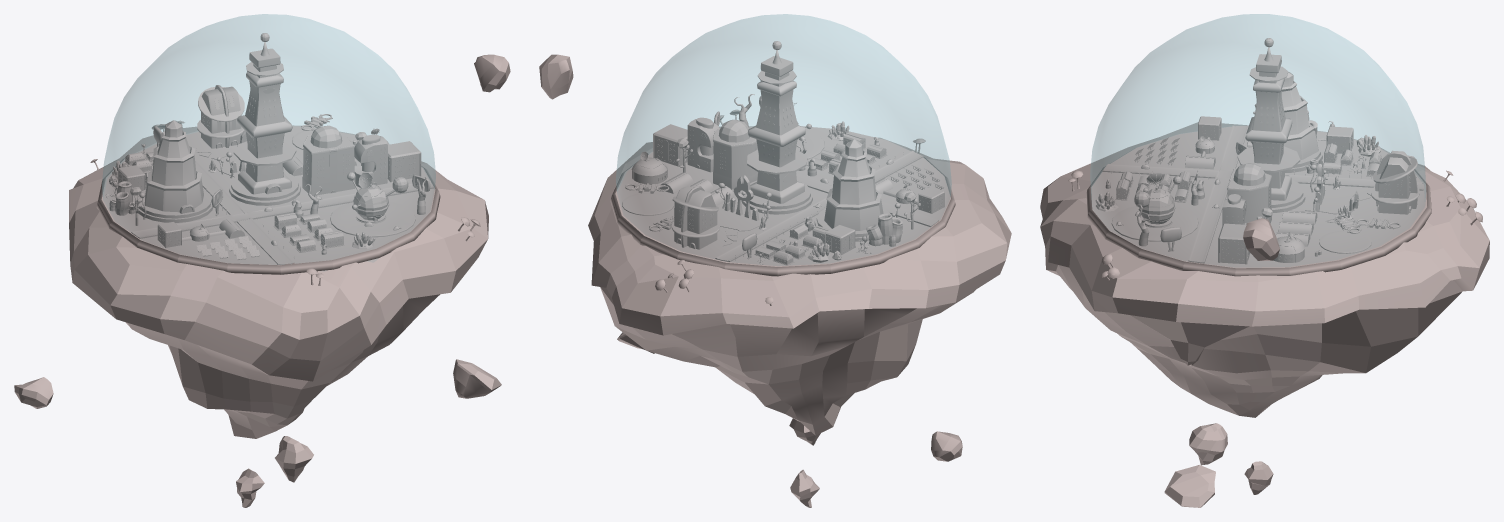
The picture shows the model from 3 angles, left to right: view 1: azimuth 30°, elevation 25°; view 2: azimuth 150°, elevation 25°; view 3: azimuth 270°, elevation 25°; orthographic projection.
Parts seen in each view (by area): view 1: Dome_2, Island.001_28, Floor_20, Skyskraper_2_40, Skyskraper_39, Building_11, Building_2_12, Driveway_18, Roundabout_38, House_4_25, Driveway_2_19, Planetarium_32 (+6 smaller); view 2: Dome_2, Island.001_28, Floor_20, Skyskraper_2_40, Skyskraper_39, Building_2_12, Building_11, House_4_25, Driveway_2_19, Hospital_21, Solar_Station_2_44, Trees_55 (+12 smaller); view 3: Dome_2, Island.001_28, Floor_20, Skyskraper_2_40, Building_2_12, Driveway_18, Skyskraper_39, Building_11, House_4_25, Driveway_2_19, Roundabout_38, Planetarium_32 (+11 smaller).
Boxes of the visible parts, x1,y1,x2,y2 form: Dome_2: (102,14,435,270); Island.001_28: (14,54,510,507); Floor_20: (96,125,440,274); Skyskraper_2_40: (229,33,300,205); Skyskraper_39: (134,120,212,222); Building_11: (302,125,355,195); Building_2_12: (197,85,244,148); Driveway_18: (131,180,433,238); Roundabout_38: (330,201,415,237); House_4_25: (118,141,421,190); Driveway_2_19: (195,159,294,264); Planetarium_32: (347,172,408,223); Dome_2: (616,14,951,265); Island.001_28: (539,54,1011,507); Floor_20: (610,126,955,276); Skyskraper_2_40: (741,41,812,214); Skyskraper_39: (814,139,892,241); Building_2_12: (671,186,719,249); Building_11: (713,119,757,189); House_4_25: (653,124,855,255); Driveway_2_19: (715,151,923,261); Hospital_21: (687,117,719,172); Solar_Station_2_44: (875,178,944,213); Trees_55: (805,213,902,246); Dome_2: (1090,14,1425,267); Island.001_28: (1040,122,1489,507); Floor_20: (1086,126,1431,276); Skyskraper_2_40: (1237,38,1305,212); Building_2_12: (1371,150,1419,214); Driveway_18: (1188,125,1248,263); Skyskraper_39: (1246,72,1322,172); Building_11: (1227,163,1271,223); House_4_25: (1218,126,1353,264); Driveway_2_19: (1102,164,1423,190); Roundabout_38: (1111,206,1198,241); Planetarium_32: (1134,176,1181,227).
Size of the model in its own units: 98.36 by 97.74 by 83.47.
Materials: 2 (1 with a texture image).
